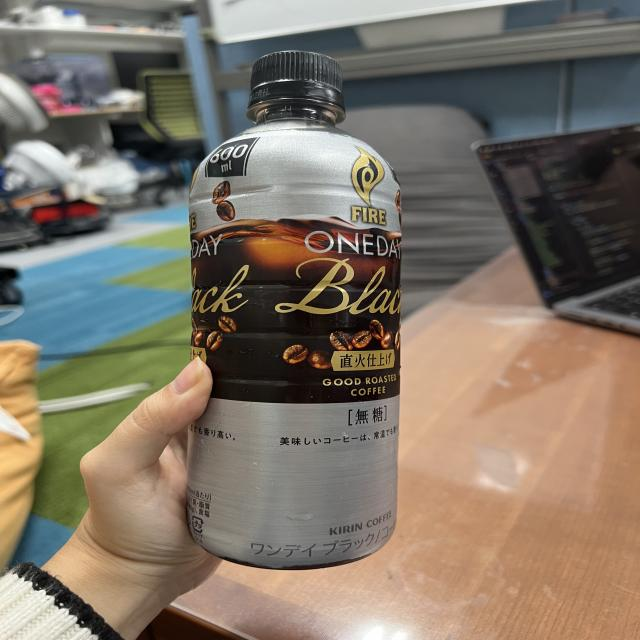coffee-black: (191, 46, 401, 570)
